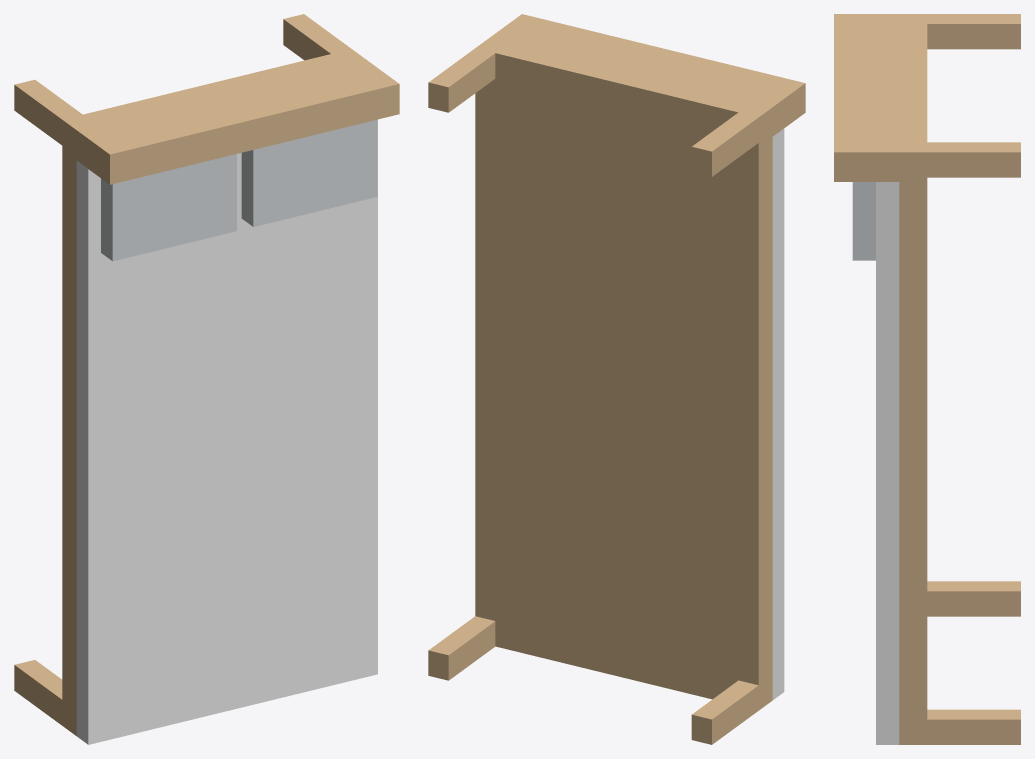
Rendered from tinker.obj.
3 views of the same model, side by side, from view 1: azimuth 30°, elevation 25°; view 2: azimuth 150°, elevation 25°; view 3: azimuth 270°, elevation 25° (orthographic). The views are drawn at different scales.
Parts seen in each view (by area): view 1: group_0_16448250, group_0_14860437, group_0_14541540; view 2: group_0_14860437, group_0_16448250; view 3: group_0_14860437, group_0_16448250, group_0_14541540.
Part boxes in pixels (bbox=[...]): group_0_16448250: bbox=[76, 120, 377, 744]; group_0_14860437: bbox=[14, 14, 399, 735]; group_0_14541540: bbox=[101, 119, 377, 261]; group_0_14860437: bbox=[428, 14, 805, 744]; group_0_16448250: bbox=[772, 128, 784, 699]; group_0_14860437: bbox=[834, 14, 1020, 744]; group_0_16448250: bbox=[876, 182, 899, 744]; group_0_14541540: bbox=[852, 182, 875, 260].
Bounding box in the file's own units: 70 × 140 × 40.
